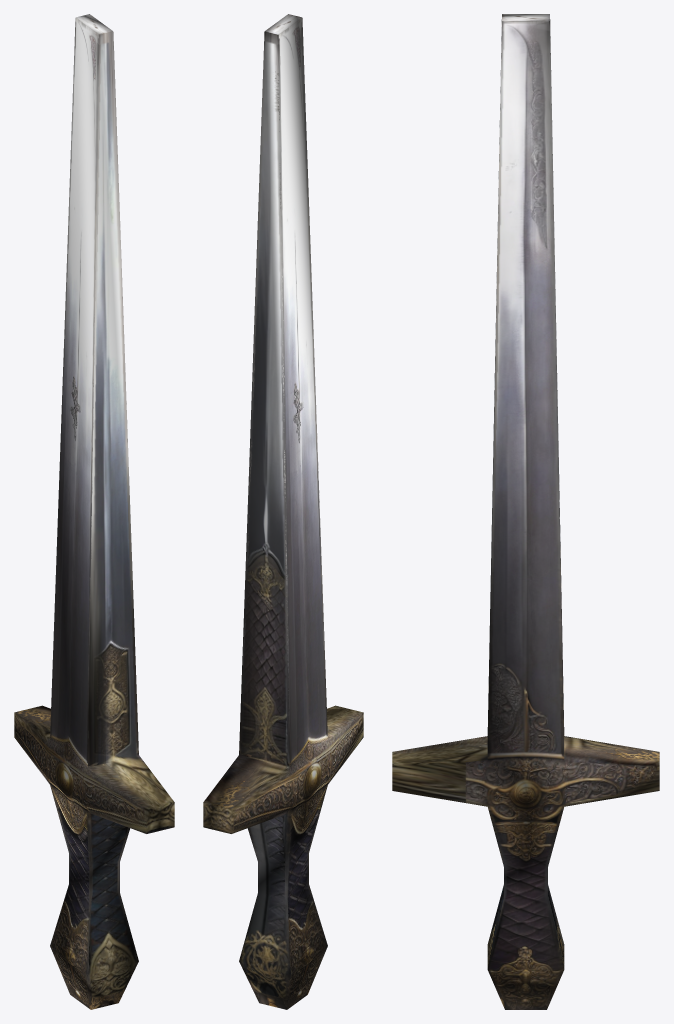
File: sword.fbx
The picture shows the model from 3 angles, left to right: view 1: azimuth 30°, elevation 25°; view 2: azimuth 150°, elevation 25°; view 3: azimuth 270°, elevation 25°; orthographic projection.
Visible parts, largest first — view 1: Cube; view 2: Cube; view 3: Cube.
Part boxes in pixels (x1,y1,x2,y2): Cube: (14, 14, 174, 1009); Cube: (203, 14, 363, 1009); Cube: (392, 14, 659, 1009).
Bounding box in the file's own units: 11.8 × 200 × 49.22.
Materials: 1 (1 with a texture image).
